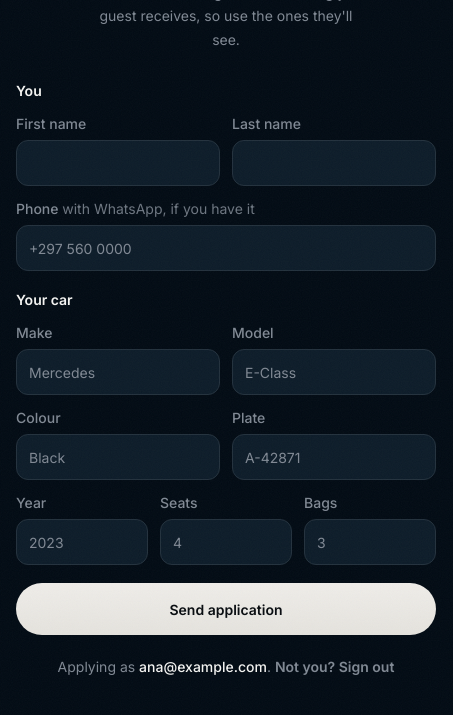
Test case: approval gate › says what is missing, by the field, before sending anything
(page scrolled)
Click the button "Send application" at [226, 609], box top-left (16, 583), bottom-right (436, 635)
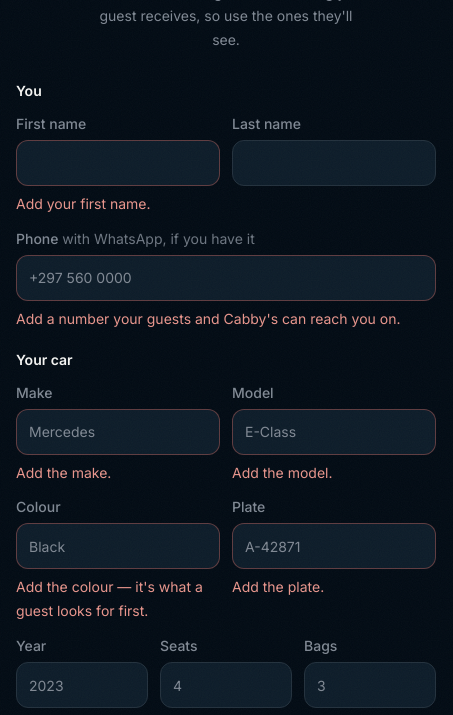
Check: the text "Add your first name." is shown, box top-left (16, 195), bottom-right (151, 212)
Check: the text "Add the plate." is shown, box top-left (232, 578), bottom-right (324, 596)
